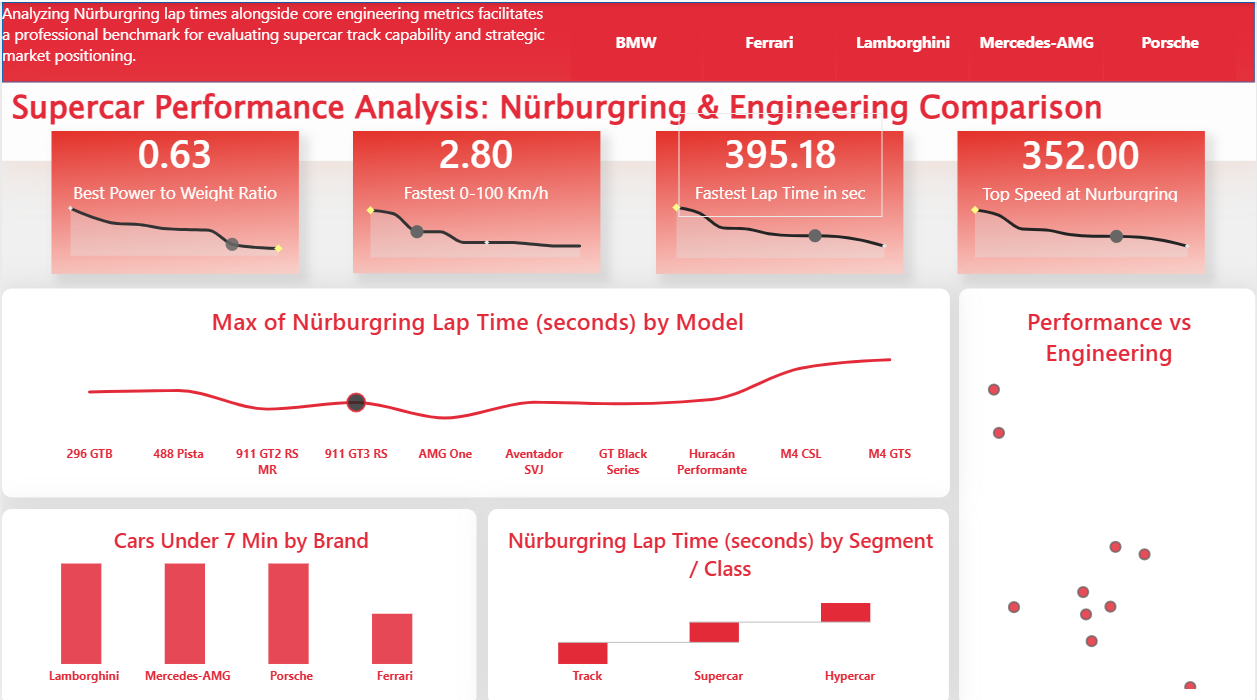

The page's visual inventory and layout, read from the dashboard file:
{"tool":"powerbi","page":{"name":"Dashboard","canvas":[1280,720],"ordinal":0},"visuals":[{"type":"shape","box":[0,0,1279.4,82.3],"z":0},{"type":"textbox","box":[0,82.7,1280.7,79.7],"z":1000},{"type":"image","box":[666.5,131.5,252.5,145.7],"z":1000,"group":"g4"},{"type":"textbox","box":[0,0,559.1,82.7],"z":2000},{"type":"group","id":"g1","title":"Group 3","box":[43.8,113.8,1191.9,164.5],"z":3000},{"type":"image","box":[50,131.5,252.5,145.7],"z":3500,"group":"g2"},{"type":"image","box":[975.6,131.9,252.5,145.7],"z":3500,"group":"g5"},{"type":"slicer","fields":{"Values":["raw_data1.Brand"]},"box":[559.1,0,720,81.2],"z":4000},{"type":"group","id":"g2","title":"Group 1","box":[43.8,113.8,263.2,163.4],"z":4000,"group":"g1"},{"type":"lineChart","fields":{"Category":["raw_data1.Model"],"Y":["Max(raw_data1.Nürburgring Lap Time (seconds))"]},"box":[967.9,180.8,267.8,96.2],"z":4000,"group":"g5"},{"type":"group","id":"g3","title":"Group 5","box":[349.7,114.7,264.8,162.1],"z":5000,"group":"g1"},{"type":"scatterChart","title":"Performance vs Engineering","fields":{"X":["raw_data1.p_w_ratio"],"Y":["Sum(raw_data1.Nürburgring Lap Time (seconds))"],"Category":["raw_data1.Downforce (kg)"]},"box":[976.6,292.3,302.8,427.1],"z":5000},{"type":"image","box":[356.9,131.3,252.5,145.5],"z":6000,"group":"g3"},{"type":"lineChart","fields":{"Category":["raw_data1.Model"],"Y":["Max(raw_data1.Nürburgring Lap Time (seconds))"]},"box":[662.1,178.3,263.2,100],"z":6000,"group":"g4"},{"type":"lineChart","fields":{"Y":["Max(raw_data1.Nürburgring Lap Time (seconds))"],"Category":["raw_data1.Model"]},"box":[0,292.3,967.9,213.5],"z":6000},{"type":"lineChart","fields":{"Category":["raw_data1.Model"],"Y":["Min(raw_data1.0-100 km/h (sec))"]},"box":[349.7,181.9,264.8,94.9],"z":6250,"group":"g3"},{"type":"card","fields":{"Values":["Min(raw_data1.0-100 km/h (sec))"]},"box":[355.8,114.7,254.3,102.6],"z":6500,"group":"g3"},{"type":"card","fields":{"Values":["Min(raw_data1.Nürburgring Lap Time (seconds))"]},"box":[689.6,113.8,207.8,106.3],"z":7000,"group":"g4"},{"type":"clusteredColumnChart","fields":{"Y":["raw_data1.Cars Under 7 Min"],"Category":["raw_data1.Brand"]},"box":[0,518.1,484.8,201.3],"z":7000},{"type":"group","id":"g4","title":"Group 4","box":[662.1,113.8,263.2,164.5],"z":7001,"group":"g1"},{"type":"card","fields":{"Values":["Max(raw_data1.Power to Weight Ratio)"]},"box":[50,113.8,252.5,106.3],"z":7500,"group":"g2"},{"type":"lineChart","fields":{"Category":["raw_data1.Model"],"Y":["Sum(raw_data1.Power to Weight Ratio)"]},"box":[43.8,177.9,263.2,97.4],"z":7750,"group":"g2"},{"type":"waterfallChart","title":"Nürburgring Lap Time (seconds) by Segment / Class","fields":{"Category":["raw_data1.Segment / Class"],"Y":["Max(raw_data1.Nürburgring Lap Time (seconds))"]},"box":[497.1,518.1,470.8,201.3],"z":8000},{"type":"card","fields":{"Values":["Max(raw_data1.Top Speed (km/h))"]},"box":[971,115.4,260.2,105],"z":8501,"group":"g5"},{"type":"group","id":"g5","title":"Group 2","box":[967.9,115.4,267.8,162.1],"z":8502,"group":"g1"}]}

Visuals, with their boxes in screenshot pixels (x1, y1, x2, y2), scaled from the page's 1280x720 canvas onto the 1257x700 screenshot:
shape: [0,0,1256,80]
textbox: [0,80,1256,158]
image: [655,128,902,270]
textbox: [0,0,549,80]
"Group 3" group: [43,111,1213,271]
image: [49,128,297,270]
image: [958,128,1206,270]
slicer - raw_data1.Brand: [549,0,1256,79]
"Group 1" group: [43,111,301,270]
lineChart - raw_data1.Model x Max(raw_data1.Nürburgring Lap Time (seconds)): [951,176,1213,269]
"Group 5" group: [343,112,603,269]
"Performance vs Engineering" scatterChart: [959,284,1256,699]
image: [350,128,598,269]
lineChart - raw_data1.Model x Max(raw_data1.Nürburgring Lap Time (seconds)): [650,173,909,271]
lineChart - Max(raw_data1.Nürburgring Lap Time (seconds)) x raw_data1.Model: [0,284,951,492]
lineChart - raw_data1.Model x Min(raw_data1.0-100 km/h (sec)): [343,177,603,269]
card - Min(raw_data1.0-100 km/h (sec)): [349,112,599,211]
card - Min(raw_data1.Nürburgring Lap Time (seconds)): [677,111,881,214]
clusteredColumnChart - raw_data1.Cars Under 7 Min x raw_data1.Brand: [0,504,476,699]
"Group 4" group: [650,111,909,271]
card - Max(raw_data1.Power to Weight Ratio): [49,111,297,214]
lineChart - raw_data1.Model x Sum(raw_data1.Power to Weight Ratio): [43,173,301,268]
"Nürburgring Lap Time (seconds) by Segment / Class" waterfallChart: [488,504,951,699]
card - Max(raw_data1.Top Speed (km/h)): [954,112,1209,214]
"Group 2" group: [951,112,1213,270]
